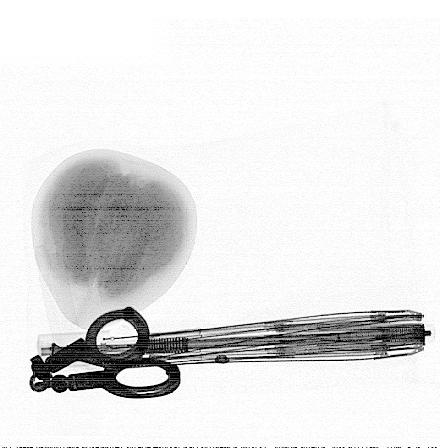HandCuffs: (27, 303, 184, 401)
